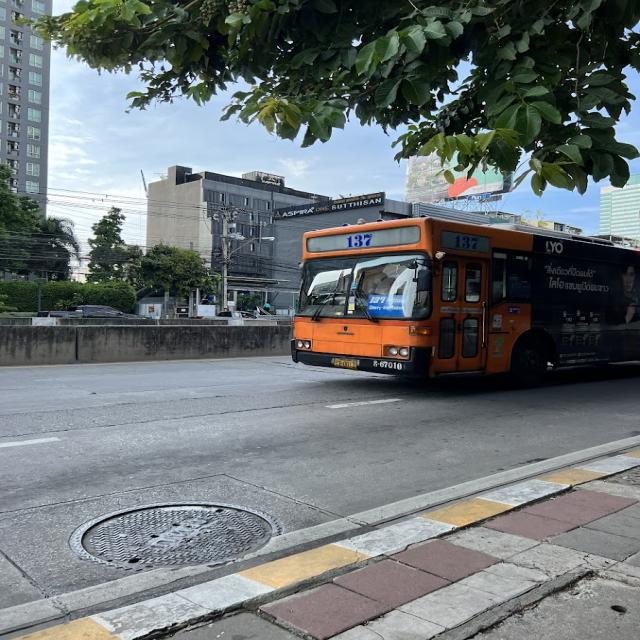BMTA-bus: (276, 212, 640, 387)
Bus-Line-Number: (345, 231, 374, 249)
Destination-Sign-Normal: (366, 295, 412, 316)
